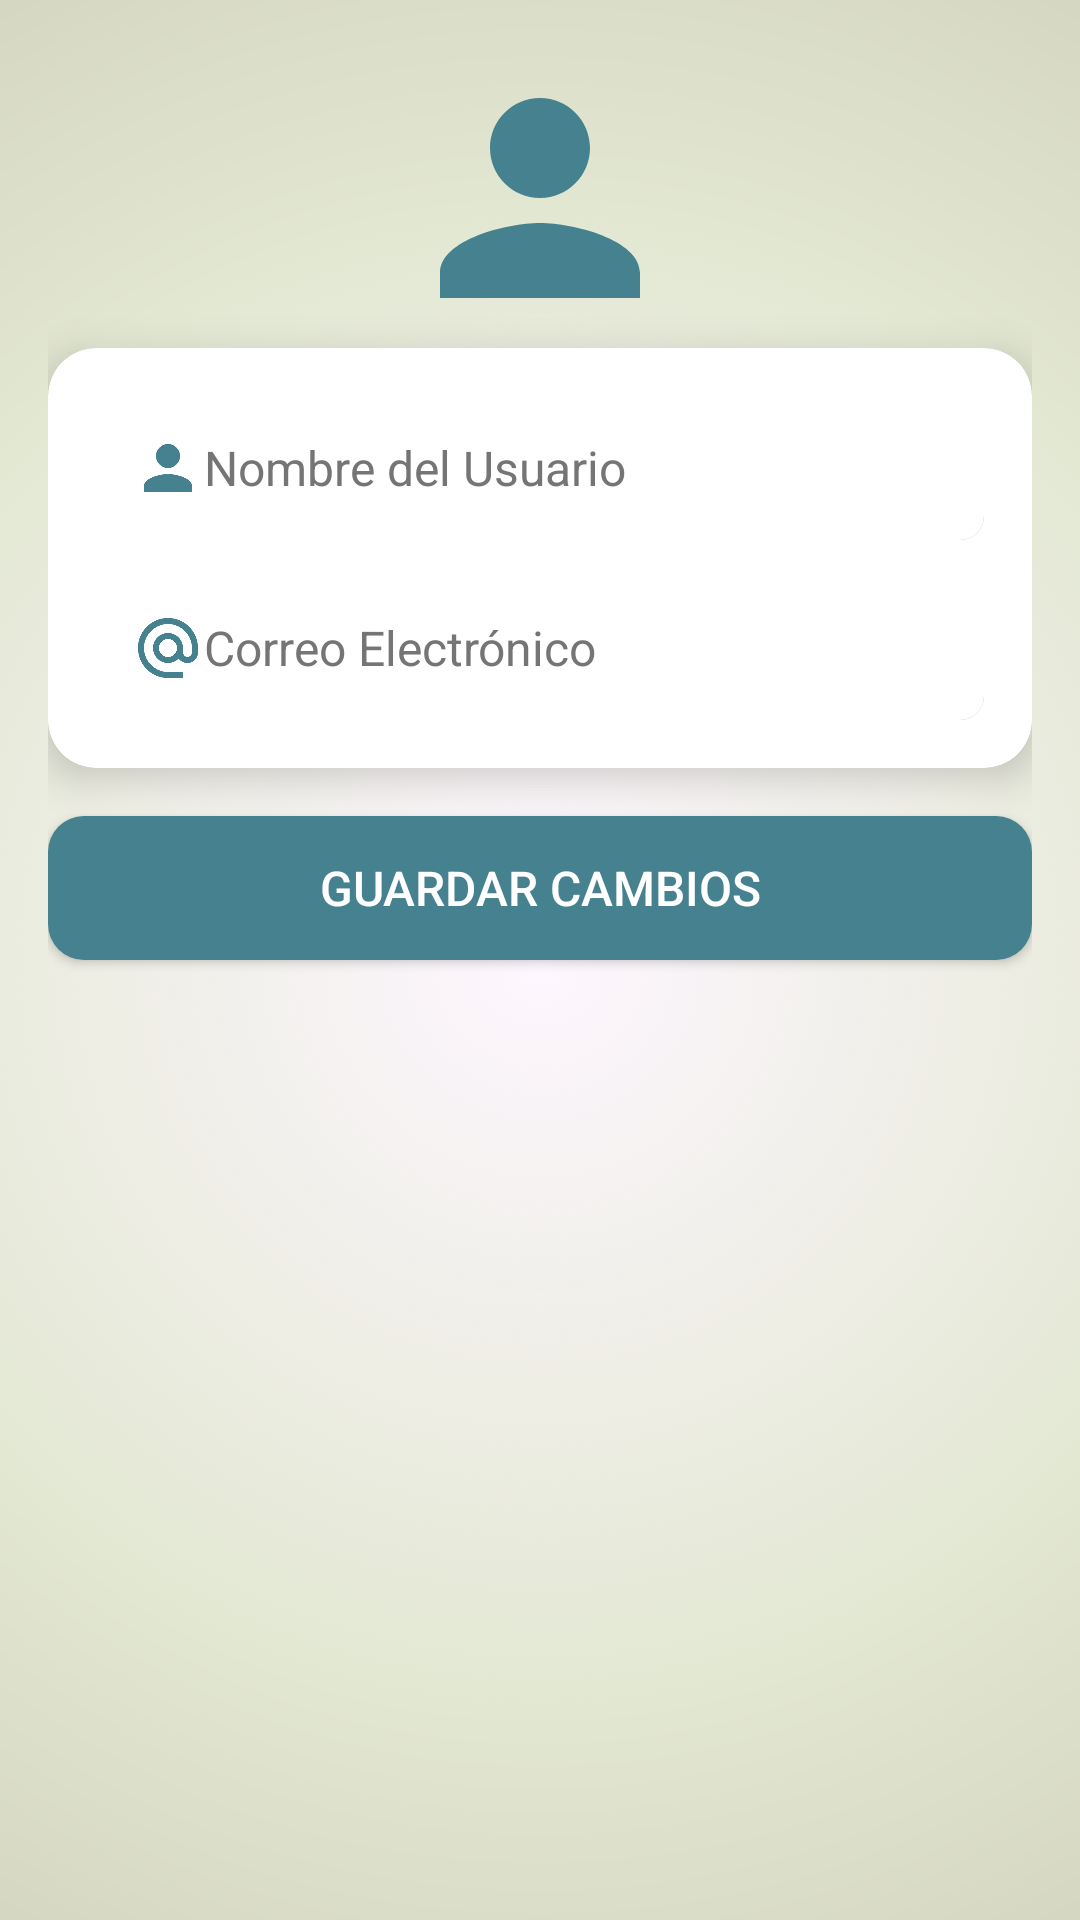

Named icons in this screenshot (1080w x 1920h) and their bounding boxes, (x1, y1, x2, y2):
Editar Usuario: (440, 98, 640, 298)
